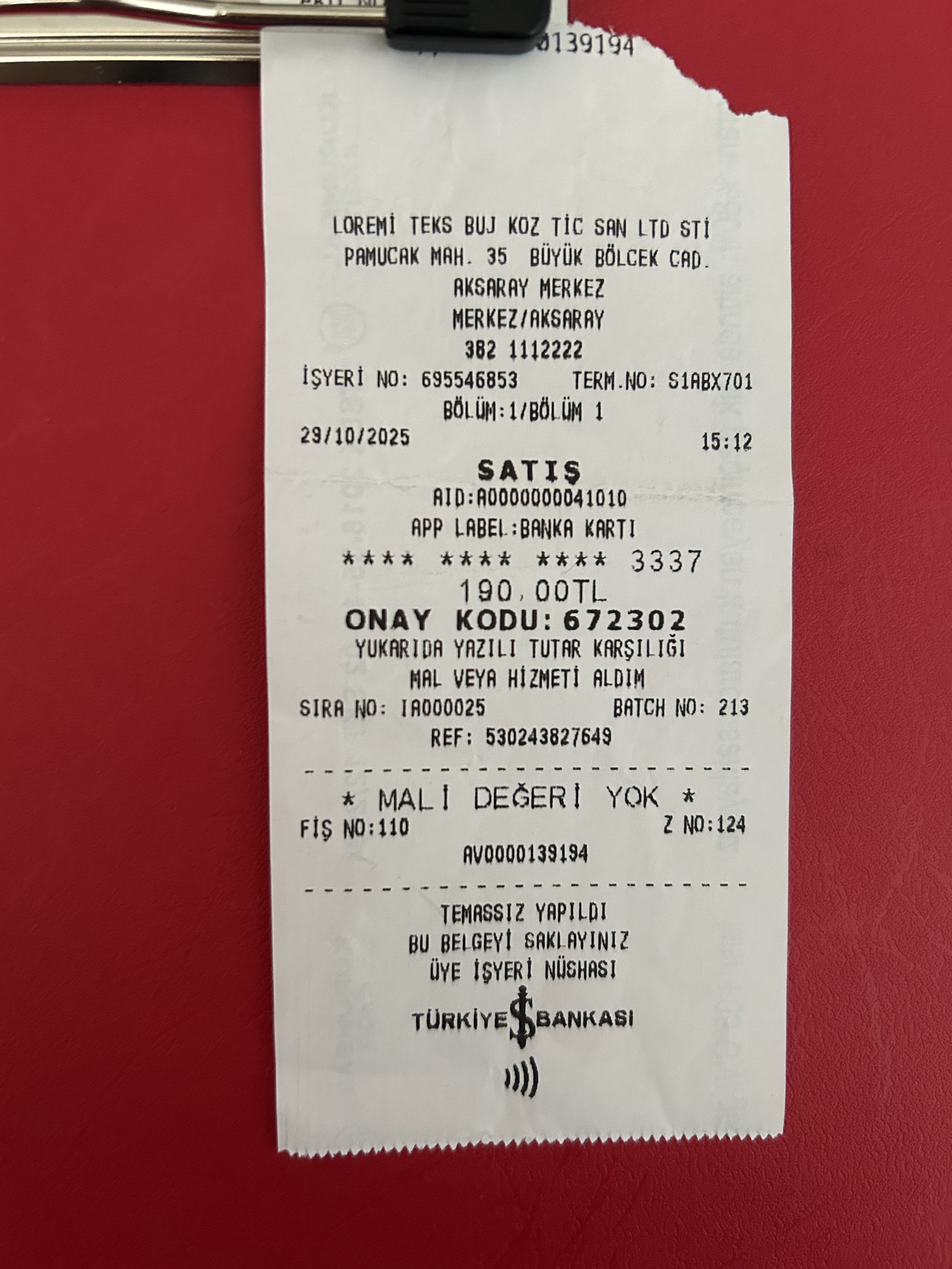date: (441, 566, 613, 608)
price: (289, 419, 418, 454)
workplace: (325, 205, 731, 332)
